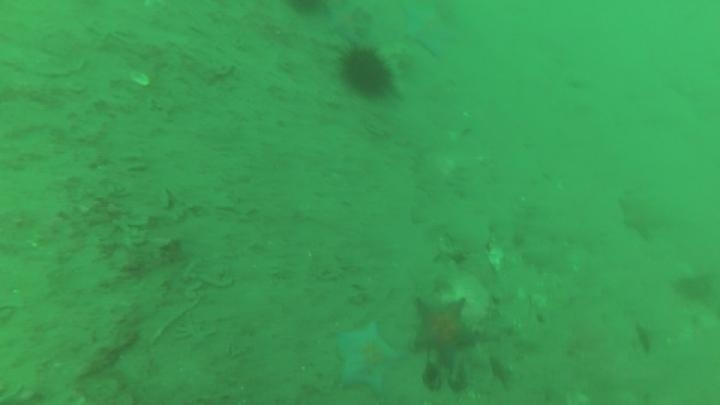echinus: (335, 42, 398, 102), (283, 1, 331, 20)
starfish: (332, 319, 406, 398), (409, 294, 481, 372), (399, 4, 460, 59), (615, 188, 668, 243), (323, 3, 372, 44)
